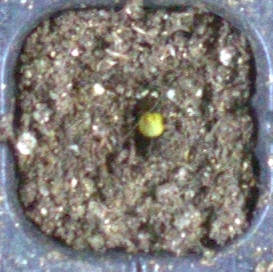pepper seed: (55, 43, 219, 180)
